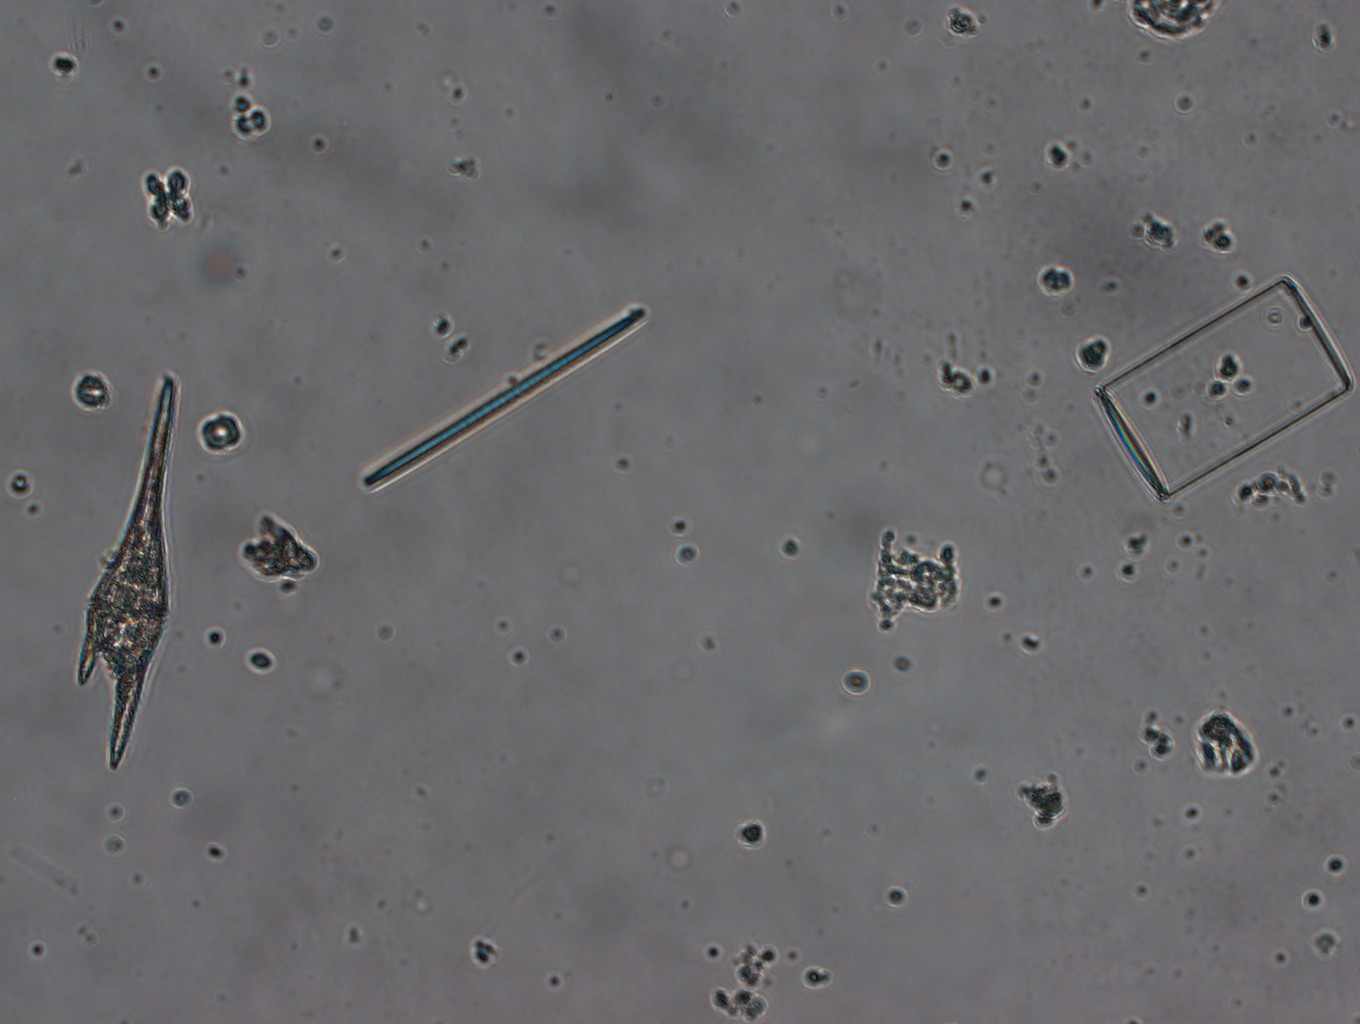ceratium furca: (70, 369, 185, 767)
guinardia flaccida: (1091, 273, 1360, 507)
